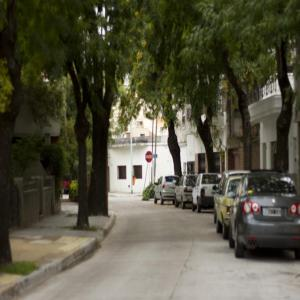Vehicle-registration-plate: (263, 206, 282, 219), (210, 189, 216, 198), (172, 186, 178, 194), (187, 188, 194, 193)
